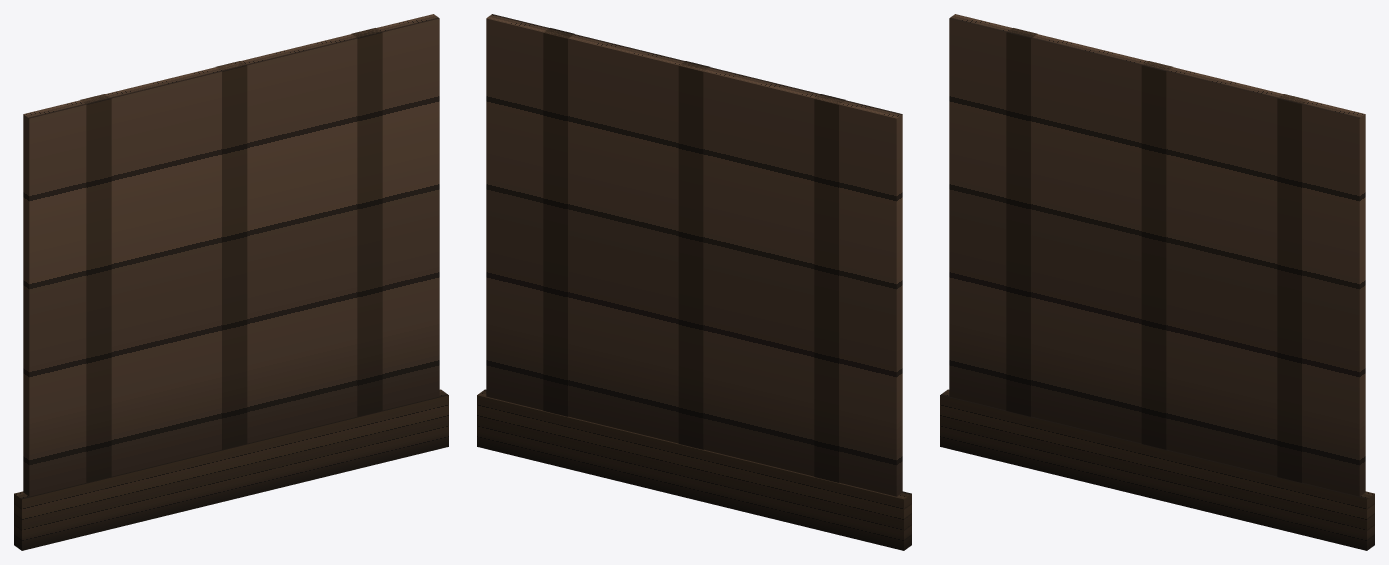
File: wall_wood.gltf
3 renders of one model, left to right at view 1: azimuth 30°, elevation 25°; view 2: azimuth 150°, elevation 25°; view 3: azimuth 330°, elevation 25°, orthographic.
Parts seen in each view (by area): view 1: wall_wood; view 2: wall_wood; view 3: wall_wood.
Boxes of the visible parts, x1=… form: wall_wood: x1=14, y1=14, x2=448, y2=550; wall_wood: x1=477, y1=14, x2=911, y2=550; wall_wood: x1=940, y1=14, x2=1374, y2=550.
Size of the model in its own units: 1.04 by 1 by 0.0336.
Materials: 1 (1 with a texture image).
